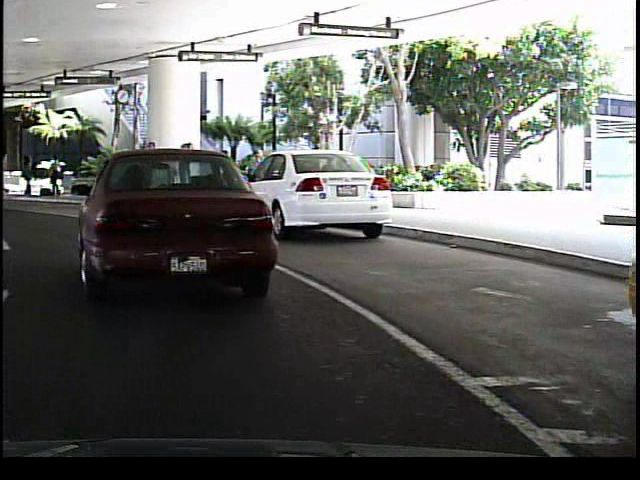person: (172, 137, 198, 202), (138, 135, 161, 205), (209, 145, 237, 198), (243, 145, 266, 191), (45, 154, 69, 196), (19, 148, 37, 199)
